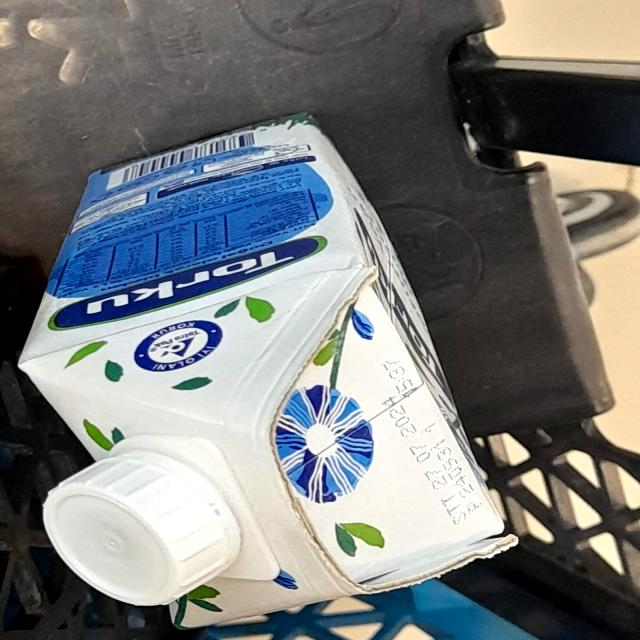milk: (49, 96, 495, 640)
